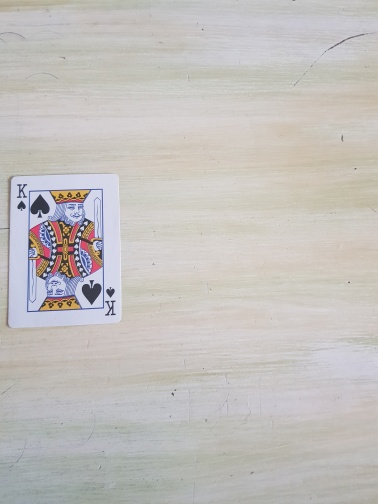king: (7, 174, 122, 330)
